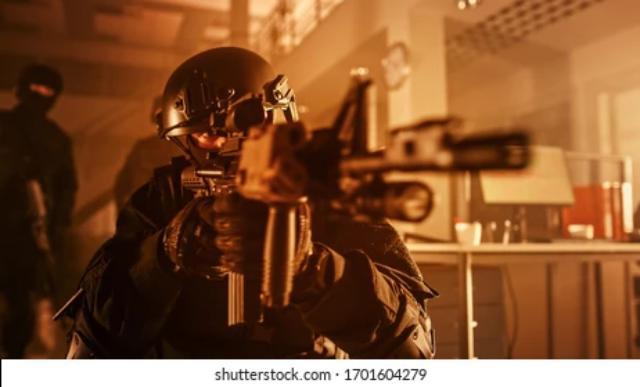other: (90, 49, 427, 346), (0, 58, 78, 287)
